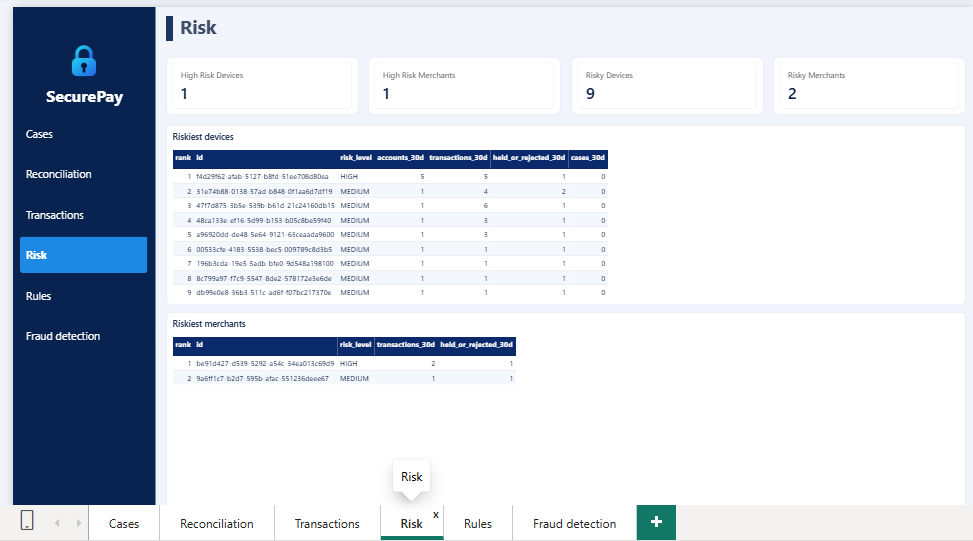

Layout of this report page (visuals, bound fields, positions):
{"tool":"powerbi","page":{"name":"Risk","canvas":[1920,1080],"ordinal":3},"visuals":[{"type":"cardVisual","fields":{"Data":["q6_risk.High Risk Devices"]},"box":[382,104,251.7,110],"z":0},{"type":"cardVisual","fields":{"Data":["q6_risk.High Risk Merchants"]},"box":[786,104,251.7,110],"z":1000},{"type":"cardVisual","fields":{"Data":["q6_risk.Risky Devices"]},"box":[1189,104,251.7,110],"z":2000},{"type":"cardVisual","fields":{"Data":["q6_risk.Risky Merchants"]},"box":[1592,104,250,110],"z":3000},{"type":"tableEx","fields":{"Values":["q6_risk.rank","q6_risk.id","q6_risk.risk_level","q6_risk.accounts_30d","q6_risk.transactions_30d","q6_risk.held_or_rejected_30d","q6_risk.cases_30d"]},"box":[322,282,1568,345],"z":4000},{"type":"tableEx","fields":{"Values":["q6_risk.rank","q6_risk.id","q6_risk.risk_level","q6_risk.transactions_30d","q6_risk.held_or_rejected_30d"]},"box":[322,700,1568,350],"z":5000},{"type":"pageNavigator","box":[15,190,255,480],"z":5001}]}

Visuals, with their boxes on the page's 1920x1080 design canvas (x1, y1, x2, y2). These are canvas units, not pixel positions in the 973x541 screenshot, which may show the page scaled, cropped or inside an application window:
cardVisual - q6_risk.High Risk Devices: 382 104 634 214
cardVisual - q6_risk.High Risk Merchants: 786 104 1038 214
cardVisual - q6_risk.Risky Devices: 1189 104 1441 214
cardVisual - q6_risk.Risky Merchants: 1592 104 1842 214
tableEx - q6_risk.rank x q6_risk.id: 322 282 1890 627
tableEx - q6_risk.rank x q6_risk.id: 322 700 1890 1050
pageNavigator: 15 190 270 670
